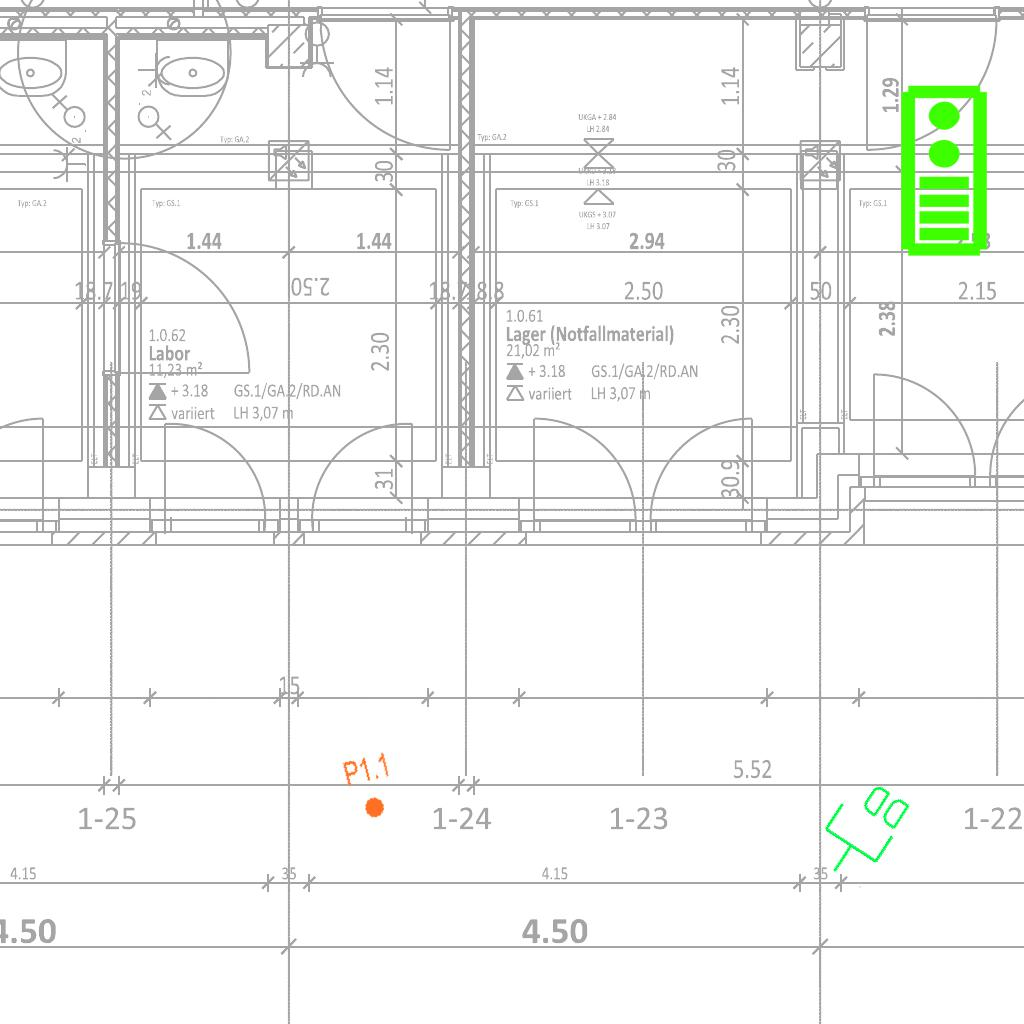Datenanschluss_zweifach: (804, 768, 919, 893)
Downlight_LED_Einbauleuchten_Flur: (340, 750, 402, 824)
Gegensprechanlage_mit_Video: (895, 82, 990, 258)
